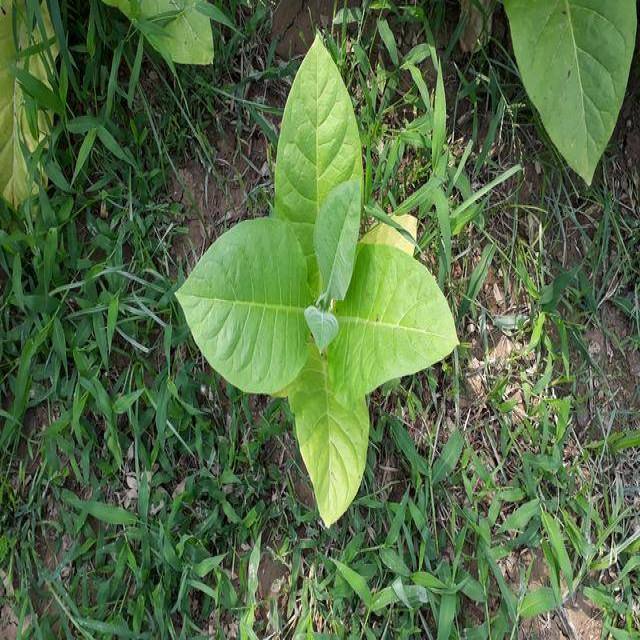crop: (160, 30, 468, 529)
